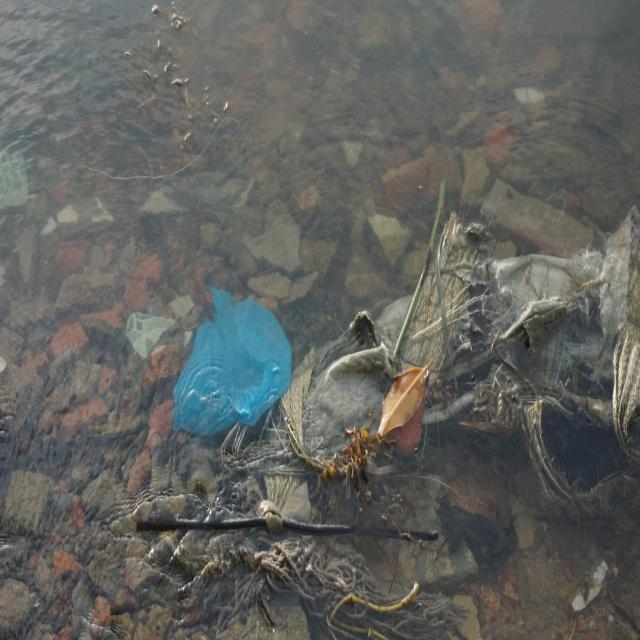Kantong Plastik: (174, 270, 295, 439)
